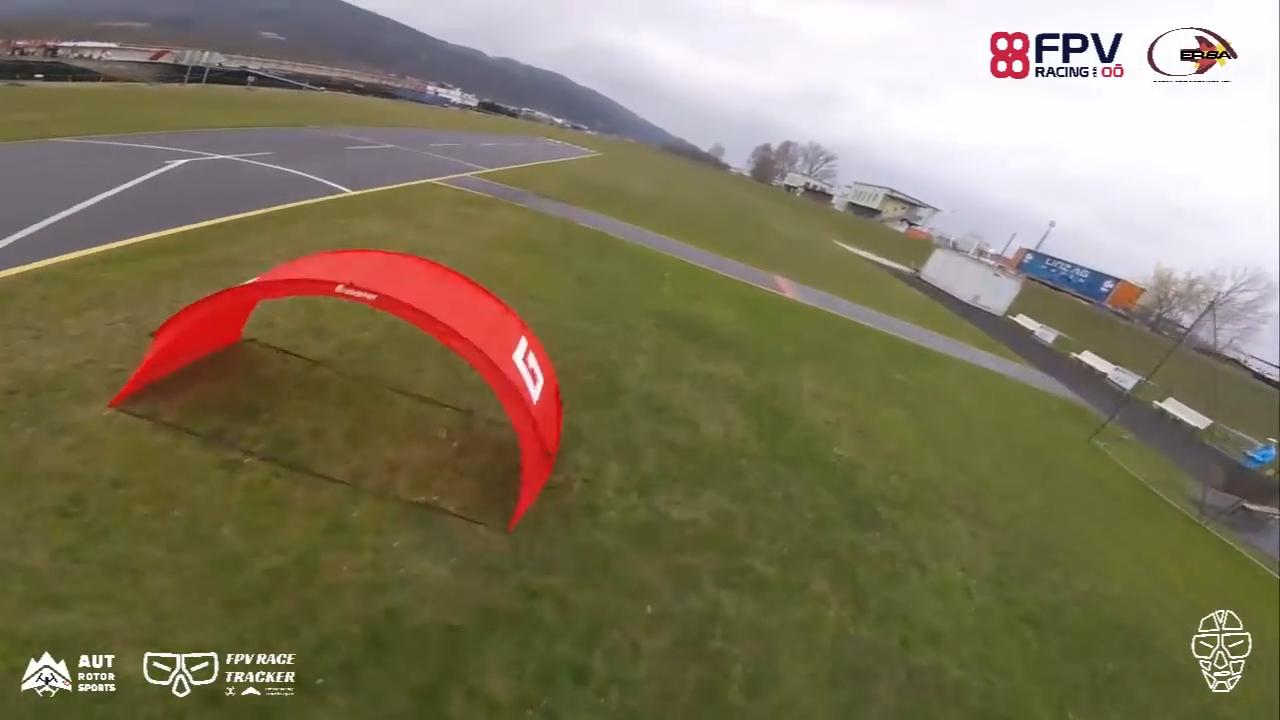gate: (110, 242, 572, 541)
